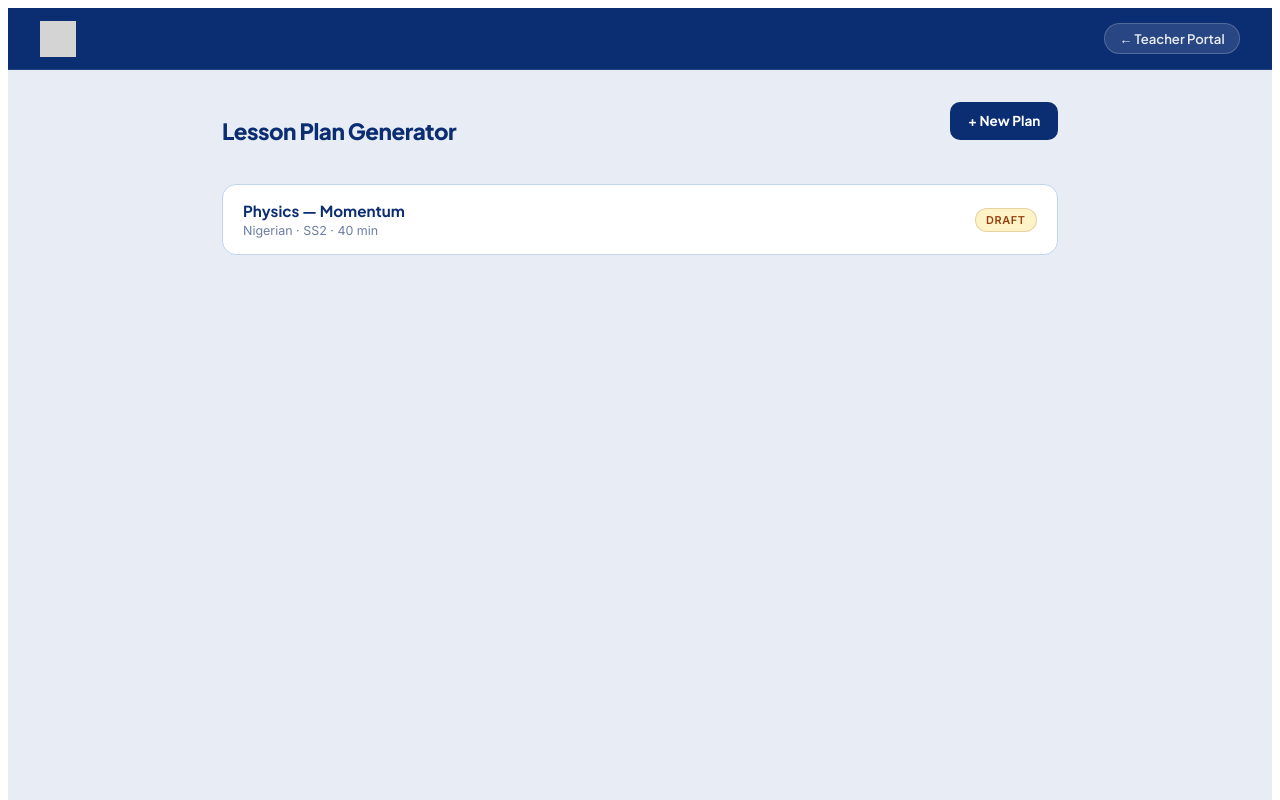
Test: LessonPlansRouter — nested mount depth › clicking a plan in the list navigates to its nested detail path, not the app root
The width and height of the screenshot is (1280, 800).
Click the link "Physics — Momentum Nigerian · SS2 · 40 min Draft".
click(324, 210)  # box [222,184,1058,255]
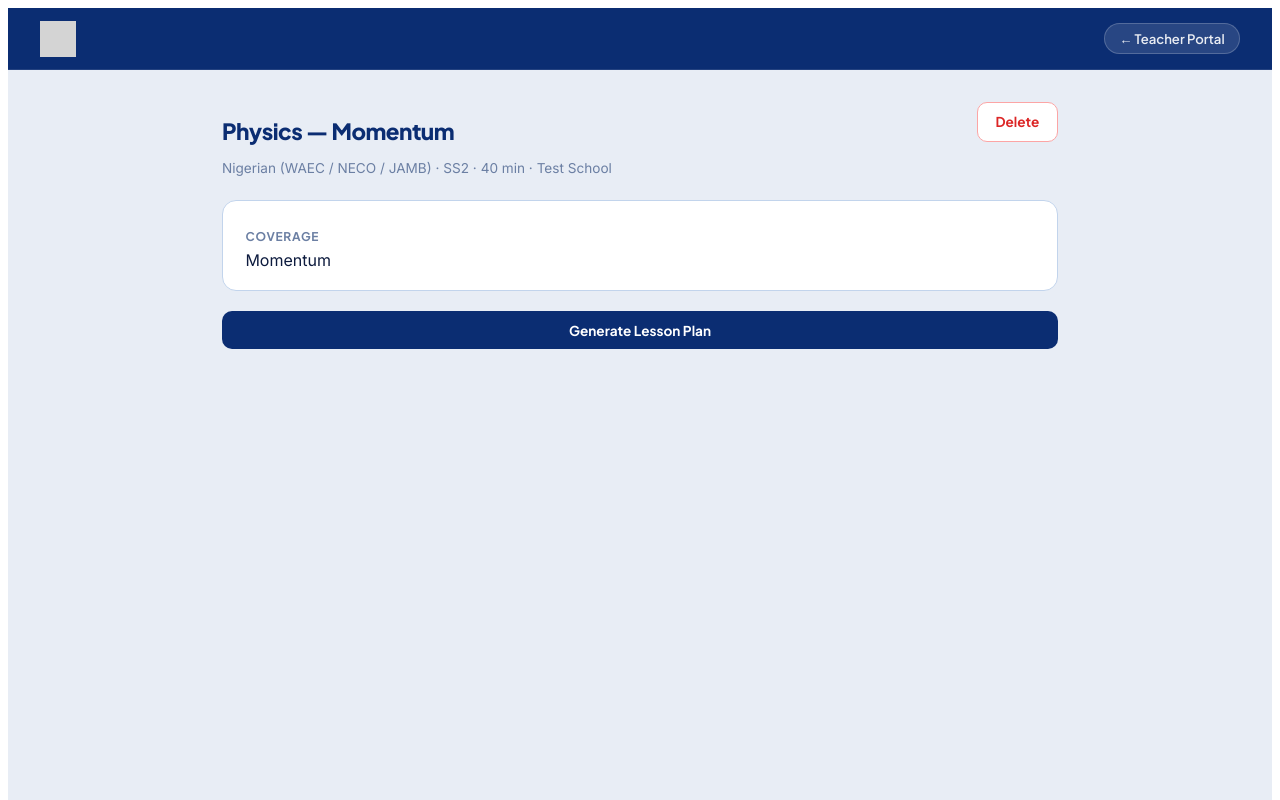
Check: the button "Generate Lesson Plan" is shown, box [222,311,1058,349]
